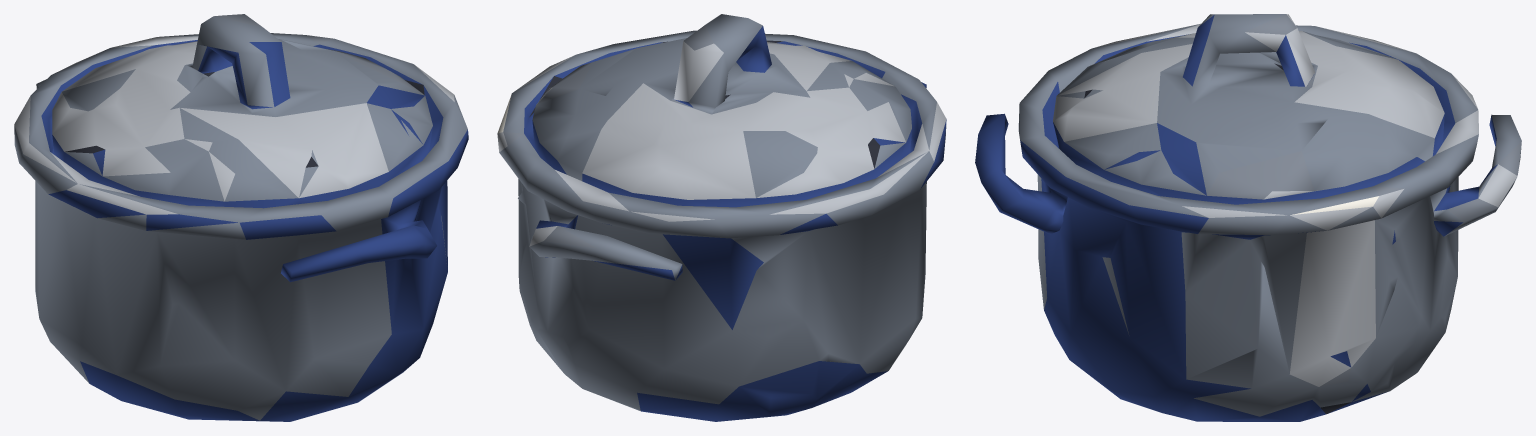
Rendered from SM_pot_blue.glb.
3 views of the same model, side by side, from view 1: azimuth 30°, elevation 25°; view 2: azimuth 150°, elevation 25°; view 3: azimuth 270°, elevation 25° (orthographic). The views are drawn at different scales.
Parts seen in each view (by area): view 1: SM_pot_blue; view 2: SM_pot_blue; view 3: SM_pot_blue.
Part boxes in pixels (x1,y1,x2,y2): SM_pot_blue: [14, 14, 468, 421]; SM_pot_blue: [497, 14, 946, 421]; SM_pot_blue: [975, 14, 1521, 421].
Size of the model in its own units: 0.345 by 0.28 by 0.4076.
1 material, 1 textured.
